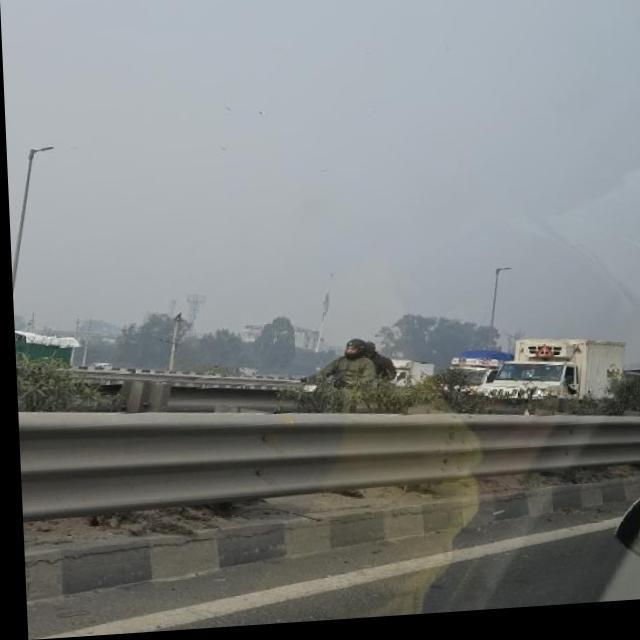covered: (499, 338, 629, 408), (443, 353, 514, 380)
